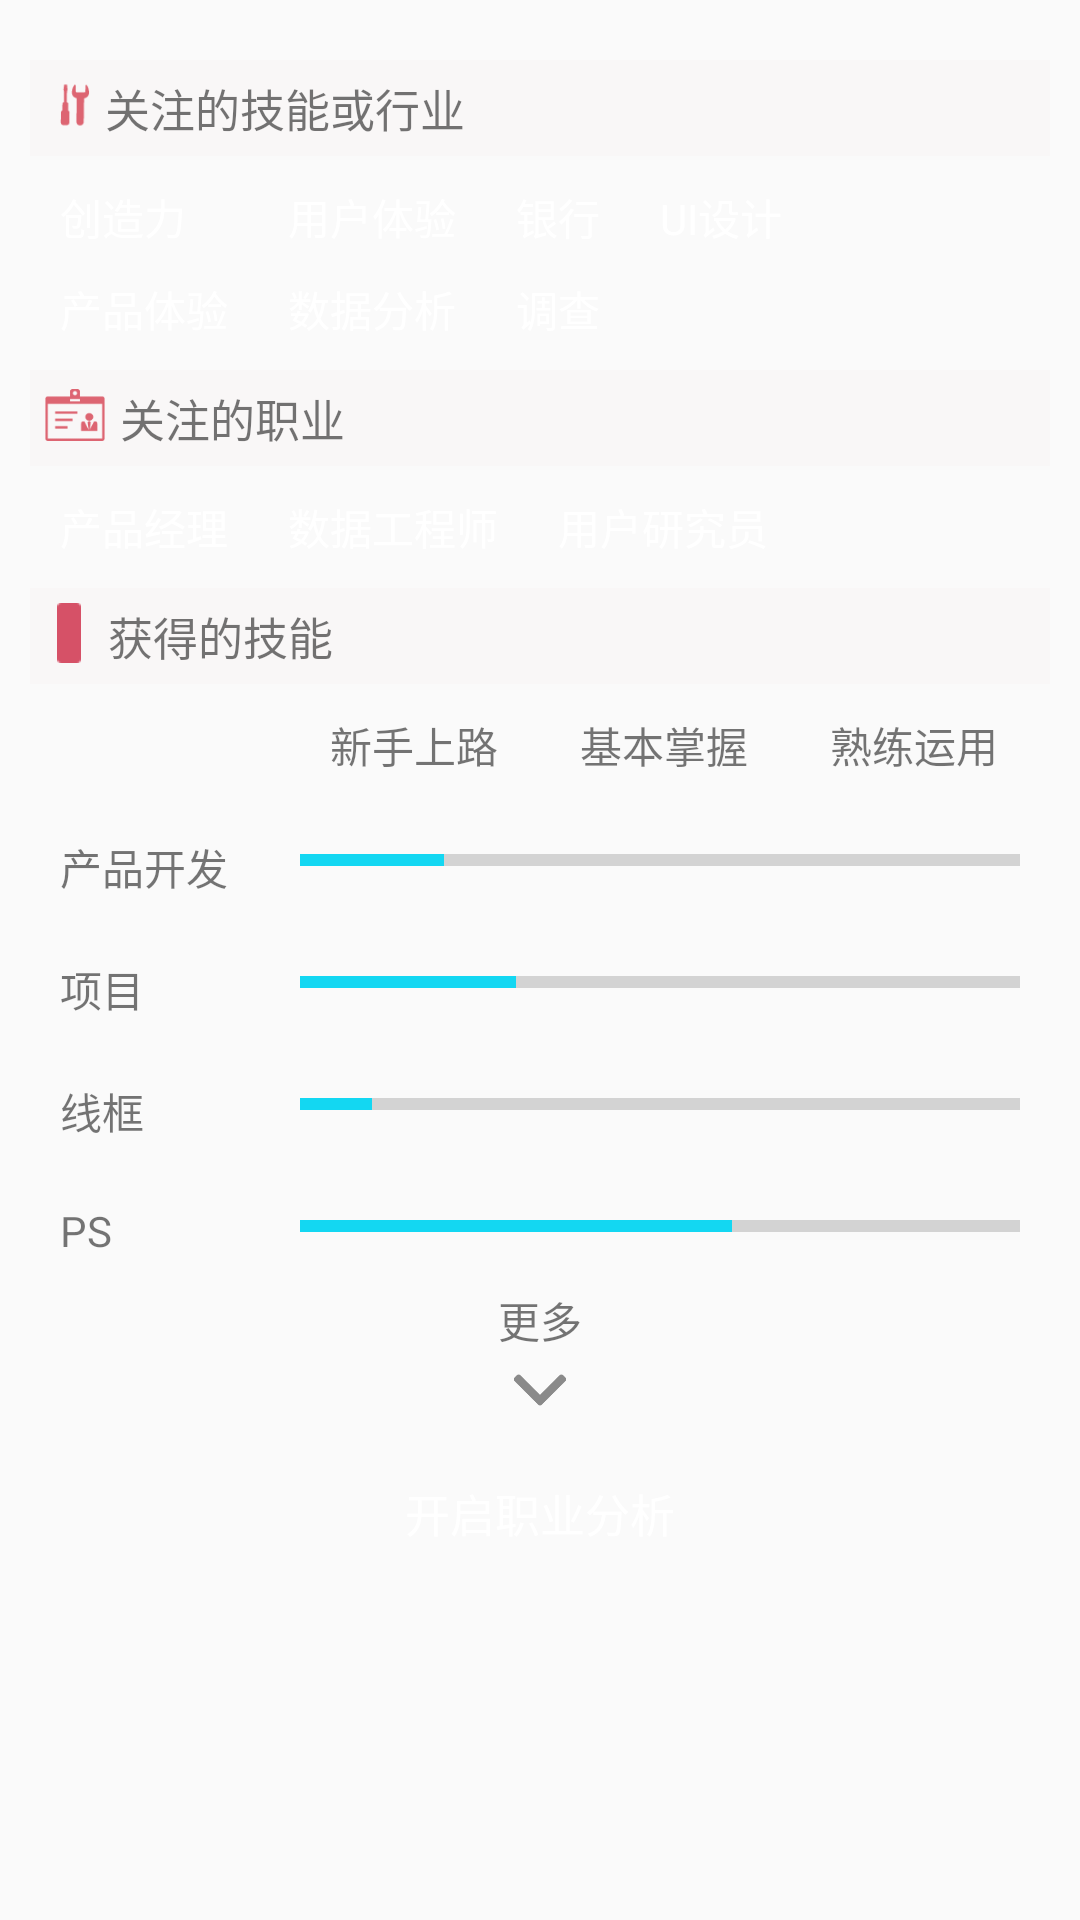

Icons on this 1080 x 1920 Android screen, each with its box as (x1, y1, x2, y2):
extend: (514, 1374, 566, 1406)
tools: (60, 84, 89, 126)
